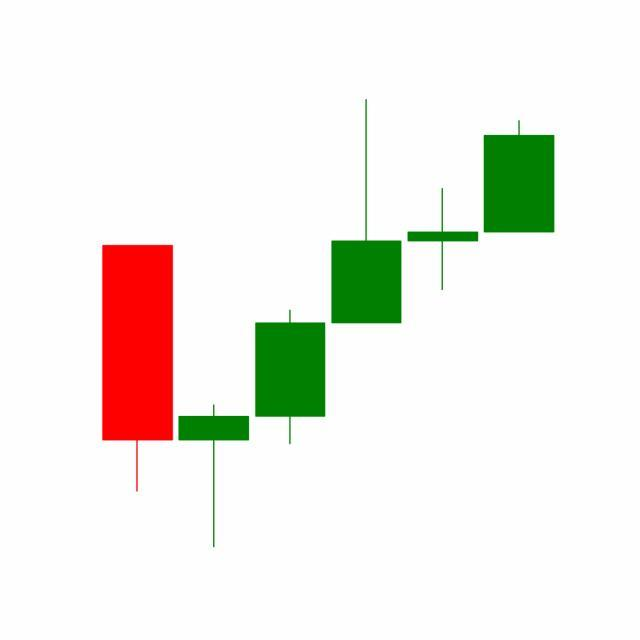Spinning Top: (404, 187, 482, 292)
